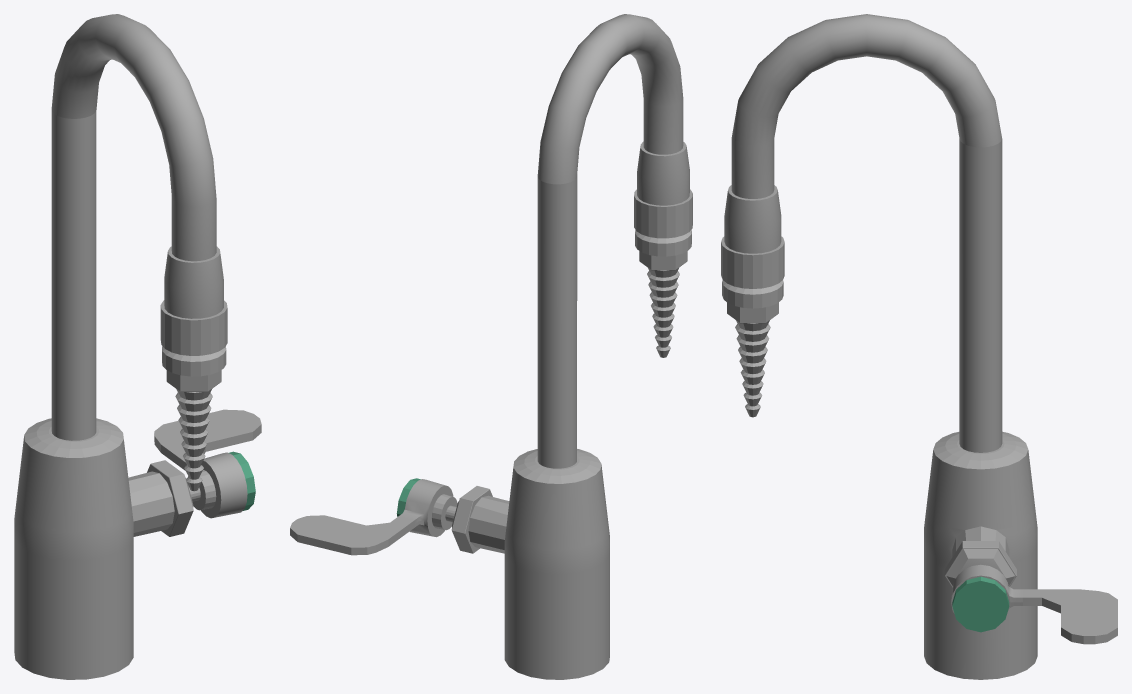
The model's file is faucet.fbx.
3 renders of one model, left to right at view 1: azimuth 30°, elevation 25°; view 2: azimuth 150°, elevation 25°; view 3: azimuth 270°, elevation 25°, orthographic. The views are drawn at different scales.
Parts seen in each view (by area): view 1: polySurface5, polySurface6, gas_valve_mesh:revolvedSurface1, pCylinder12, gas_valve_mesh:pCylinder6, pCylinder14; view 2: polySurface5, polySurface6, gas_valve_mesh:revolvedSurface1, pCylinder12, gas_valve_mesh:pCylinder6; view 3: polySurface5, polySurface6, pCylinder14, gas_valve_mesh:revolvedSurface1, pCylinder12, gas_valve_mesh:pCylinder6.
Boxes of the visible parts, x1=… form: polySurface5: x1=14, y1=14, x2=227, y2=679; polySurface6: x1=154, y1=409, x2=261, y2=518; gas_valve_mesh:revolvedSurface1: x1=175, y1=389, x2=212, y2=491; pCylinder12: x1=147, y1=460, x2=193, y2=536; gas_valve_mesh:pCylinder6: x1=166, y1=370, x2=221, y2=391; pCylinder14: x1=229, y1=451, x2=255, y2=510; polySurface5: x1=468, y1=14, x2=692, y2=679; polySurface6: x1=290, y1=479, x2=457, y2=555; gas_valve_mesh:revolvedSurface1: x1=647, y1=268, x2=679, y2=357; pCylinder12: x1=451, y1=486, x2=492, y2=553; gas_valve_mesh:pCylinder6: x1=639, y1=251, x2=687, y2=270; polySurface5: x1=721, y1=14, x2=1037, y2=679; polySurface6: x1=951, y1=564, x2=1117, y2=644; pCylinder14: x1=952, y1=576, x2=1009, y2=632; gas_valve_mesh:revolvedSurface1: x1=735, y1=320, x2=770, y2=417; pCylinder12: x1=944, y1=541, x2=1016, y2=587; gas_valve_mesh:pCylinder6: x1=727, y1=302, x2=778, y2=323.
Bounding box in the file's own units: 11.23 × 24.79 × 13.93.
